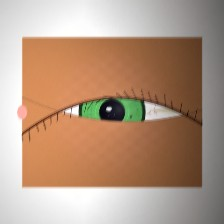pterygium_lesion: (140, 87, 203, 137)
